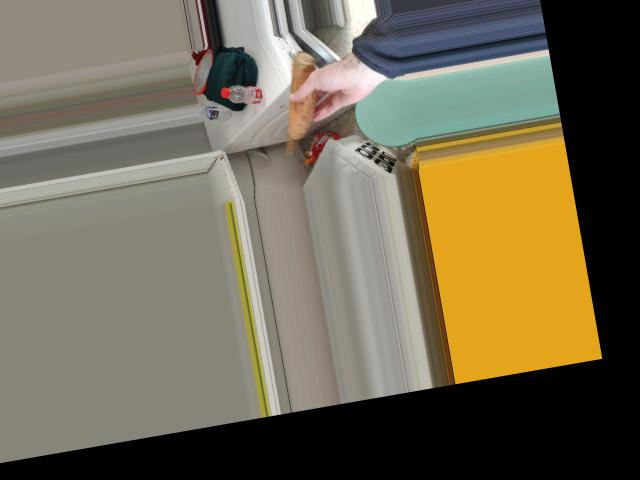sweet_potato: (267, 54, 332, 152)
